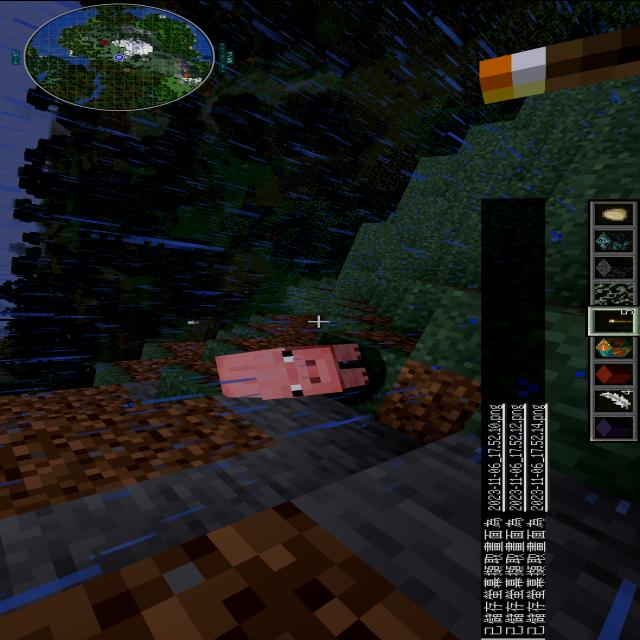pig: (202, 336, 382, 405)
